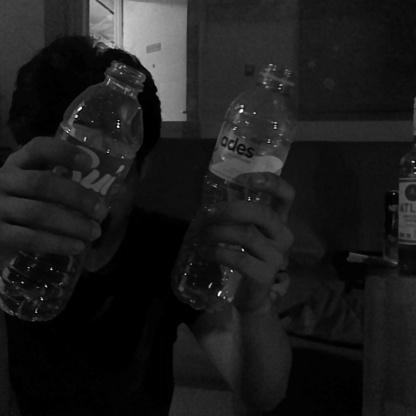plastic_bottles: (0, 64, 150, 323), (175, 59, 296, 315)
